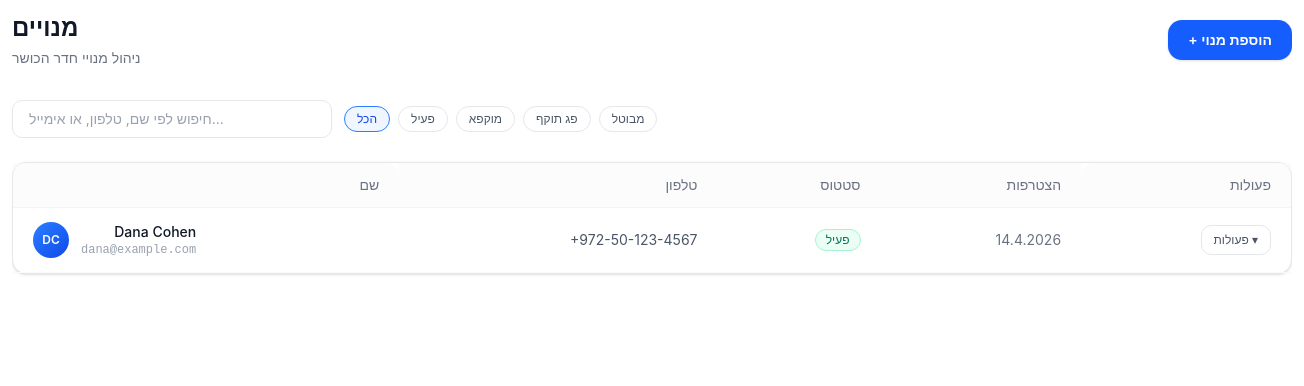
Test case: MemberListPage › actions menu shows Freeze for active members
The width and height of the screenshot is (1304, 386).
Click the button "פעולות ▾" at {"x": 1236, "y": 240}, box [1201,225,1271,255]
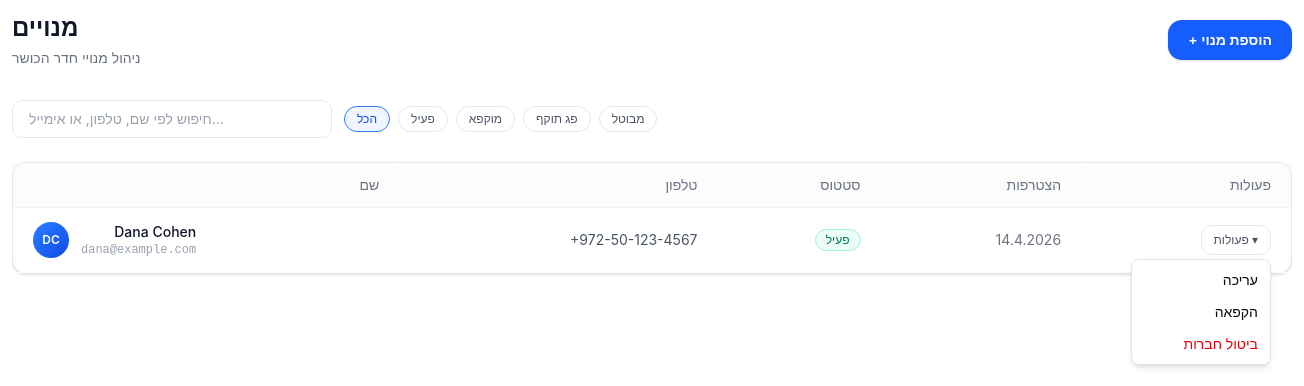
Result: the menu item "הקפאה" is shown at [1215,303,1258,320]
